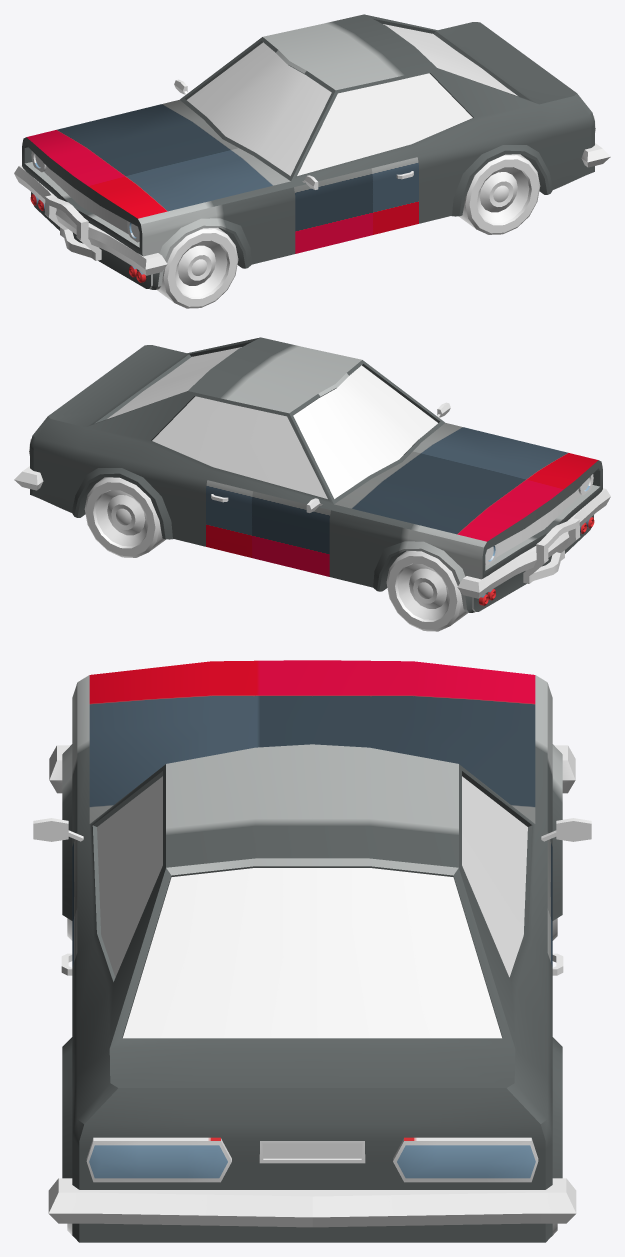
Rendered from LowPolyCars-v3.glb.
3 views of the same model, one above another, from view 1: azimuth 30°, elevation 25°; view 2: azimuth 150°, elevation 25°; view 3: azimuth 270°, elevation 25° (orthographic). The views are drawn at different scales.
Visible parts, largest first — view 1: car2, whell.002, whell.003; view 2: car2, whell.001, whell; view 3: car2.
Boxes of the visible parts, x1=… form: car2: x1=14, y1=14, x2=610, y2=289; whell.002: x1=459, y1=154, x2=540, y2=234; whell.003: x1=156, y1=228, x2=238, y2=308; car2: x1=14, y1=337, x2=610, y2=612; whell.001: x1=84, y1=477, x2=165, y2=557; whell: x1=386, y1=551, x2=468, y2=631; car2: x1=33, y1=660, x2=591, y2=1242.
Size of the model in its own units: 3.96 by 1.3 by 1.97.
Materials: 1 (1 with a texture image).
